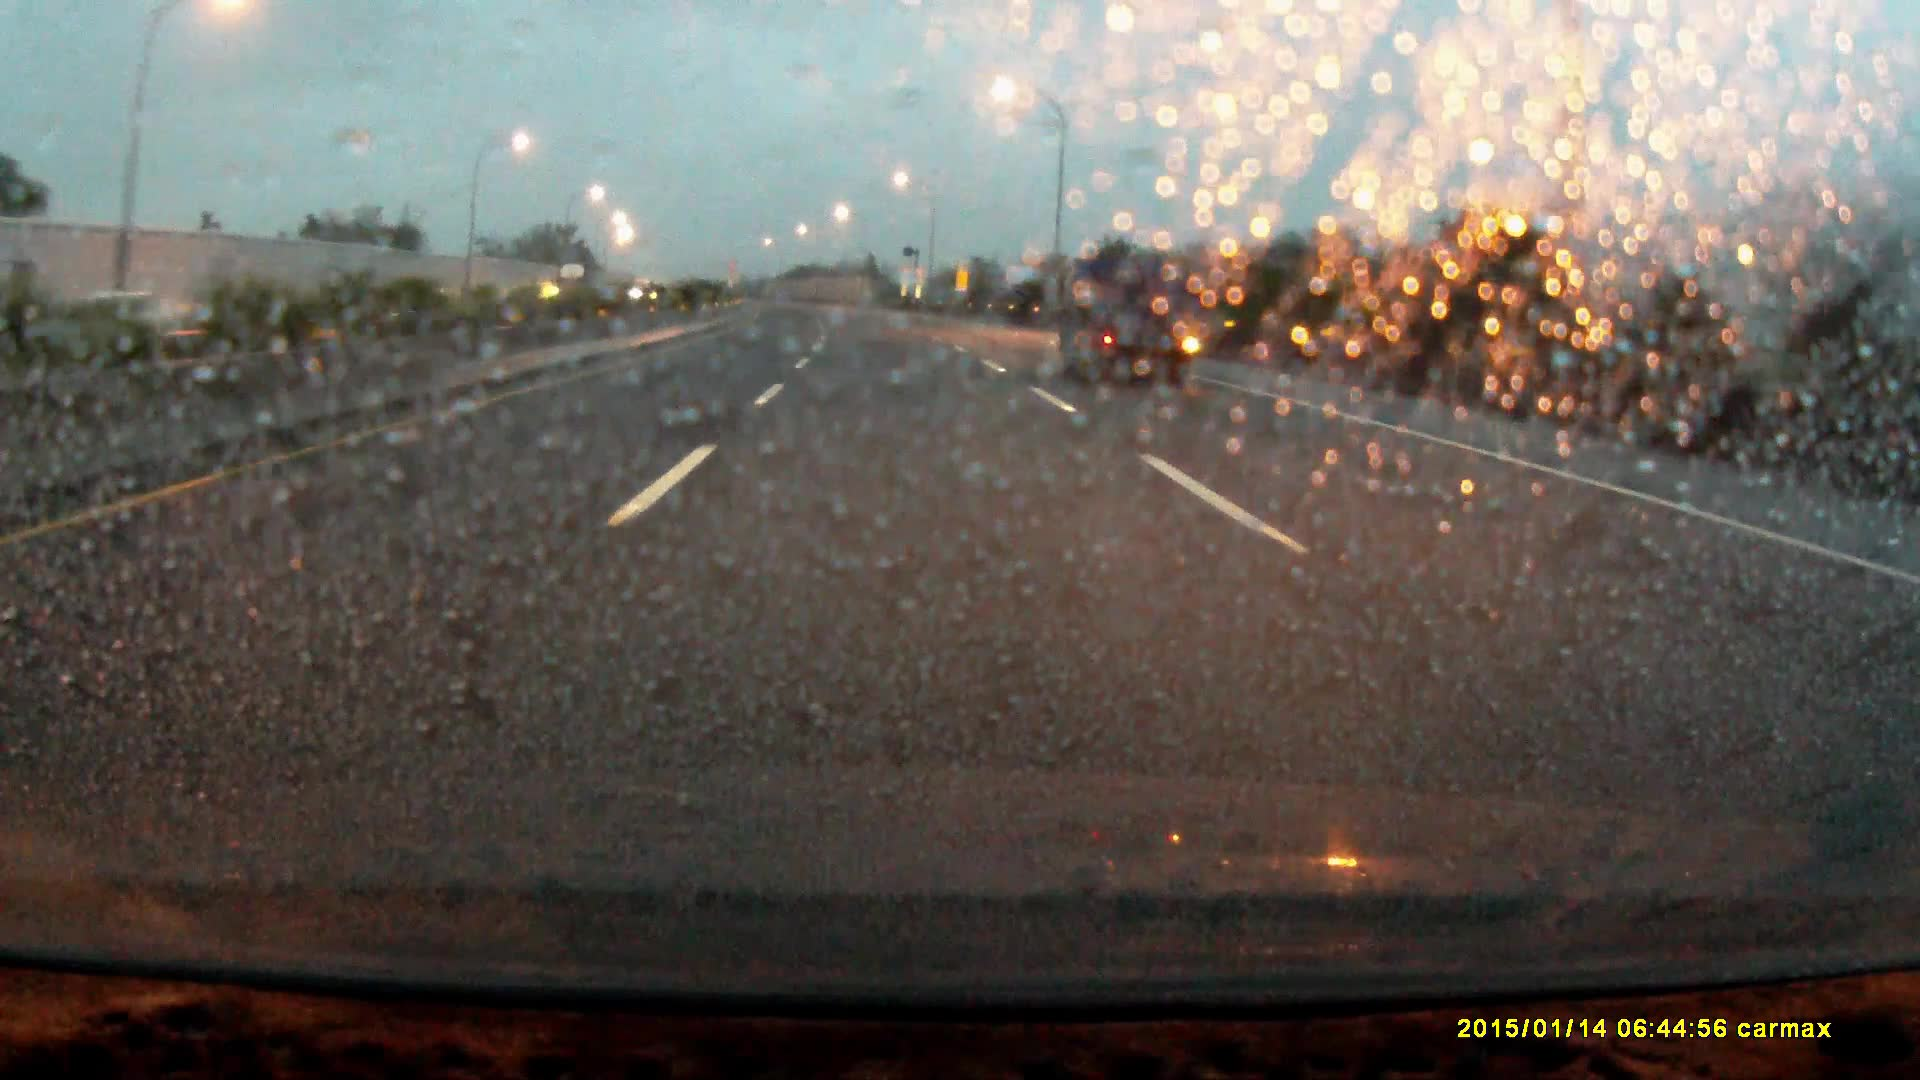vehicle: (1056, 255, 1197, 396), (558, 261, 595, 314)
